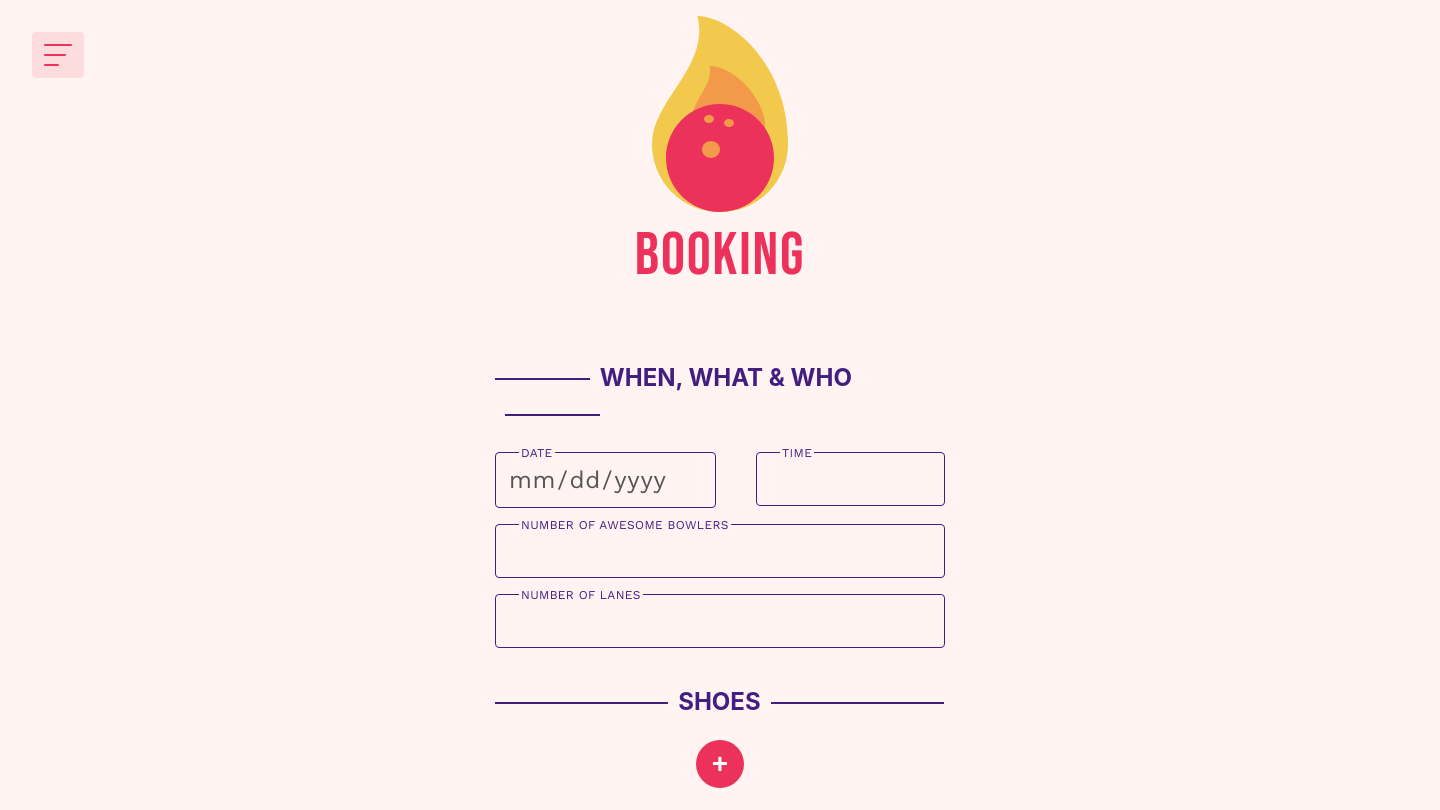
Scenario: Navigation menu › should include two navigation links
What coordinates should you click on to do the following:
click the picture with alt text "nav-icon"
I would click on:
 (58, 55)
Its box is [32,32,84,78].
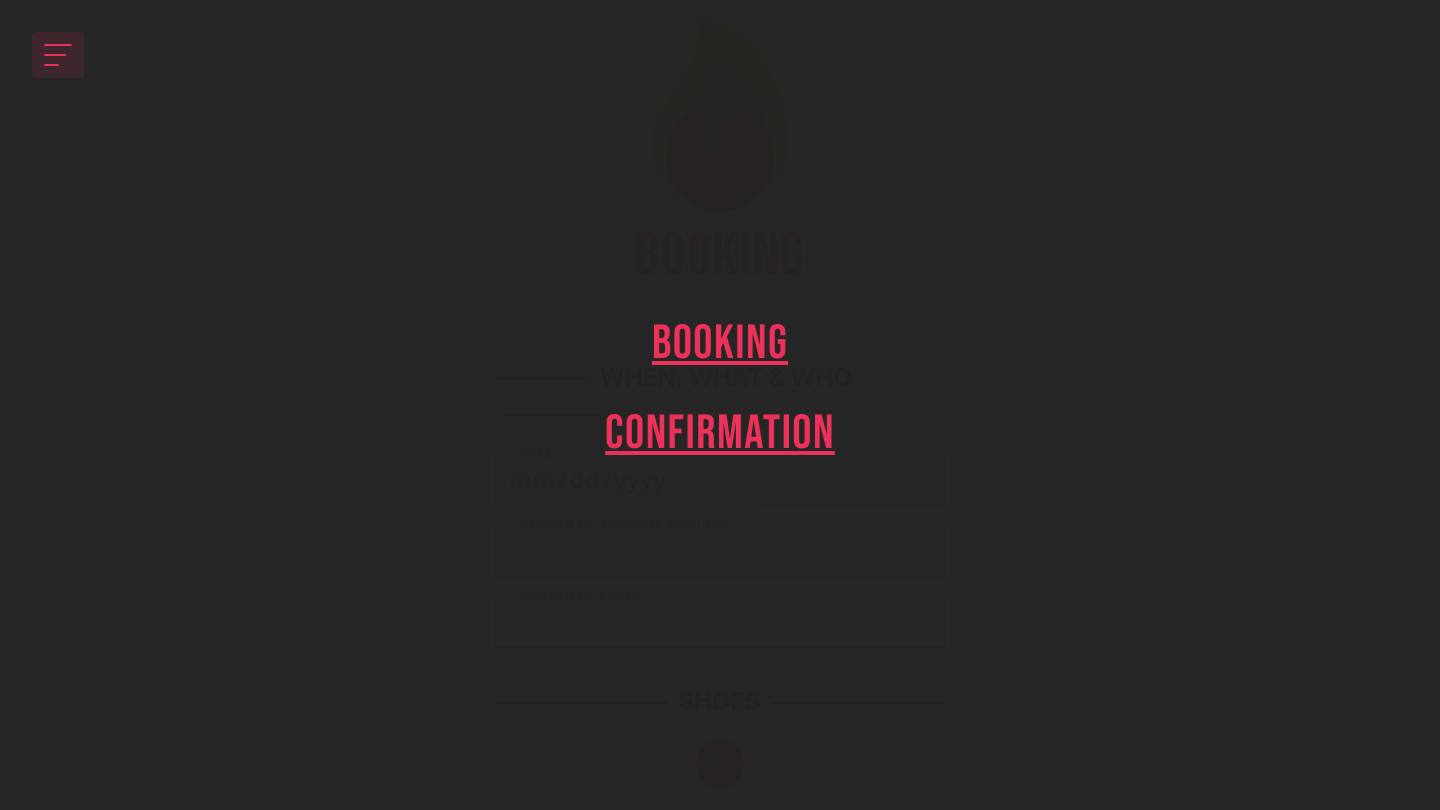
Check: the number of links is 2, box [652,315,788,373]; [605,405,835,463]
Check: the link "Booking" is shown, box [652,315,788,373]
Check: the link "Confirmation" is shown, box [605,405,835,463]
